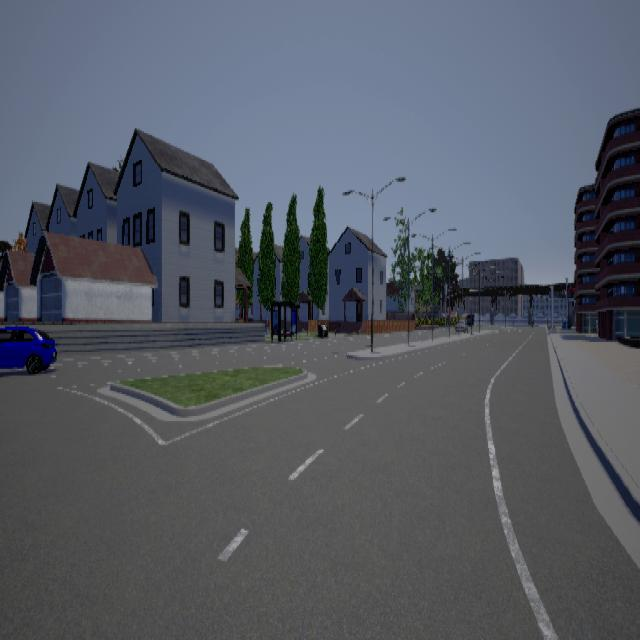vehicle: (0, 325, 56, 374)
